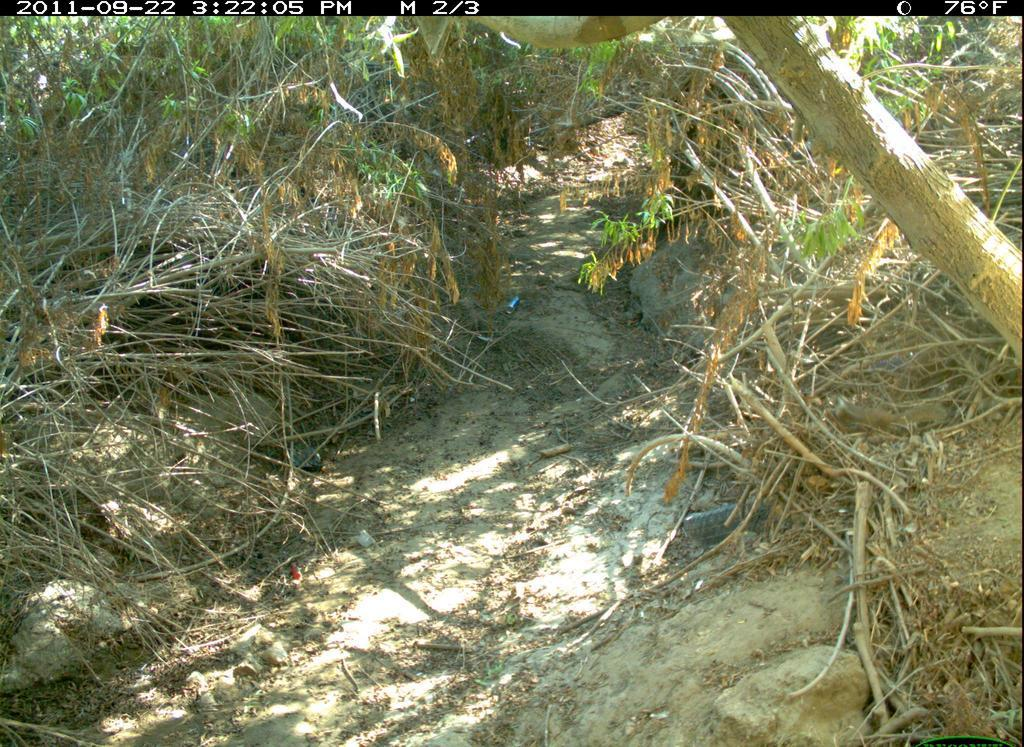squirrel: (829, 379, 967, 449)
